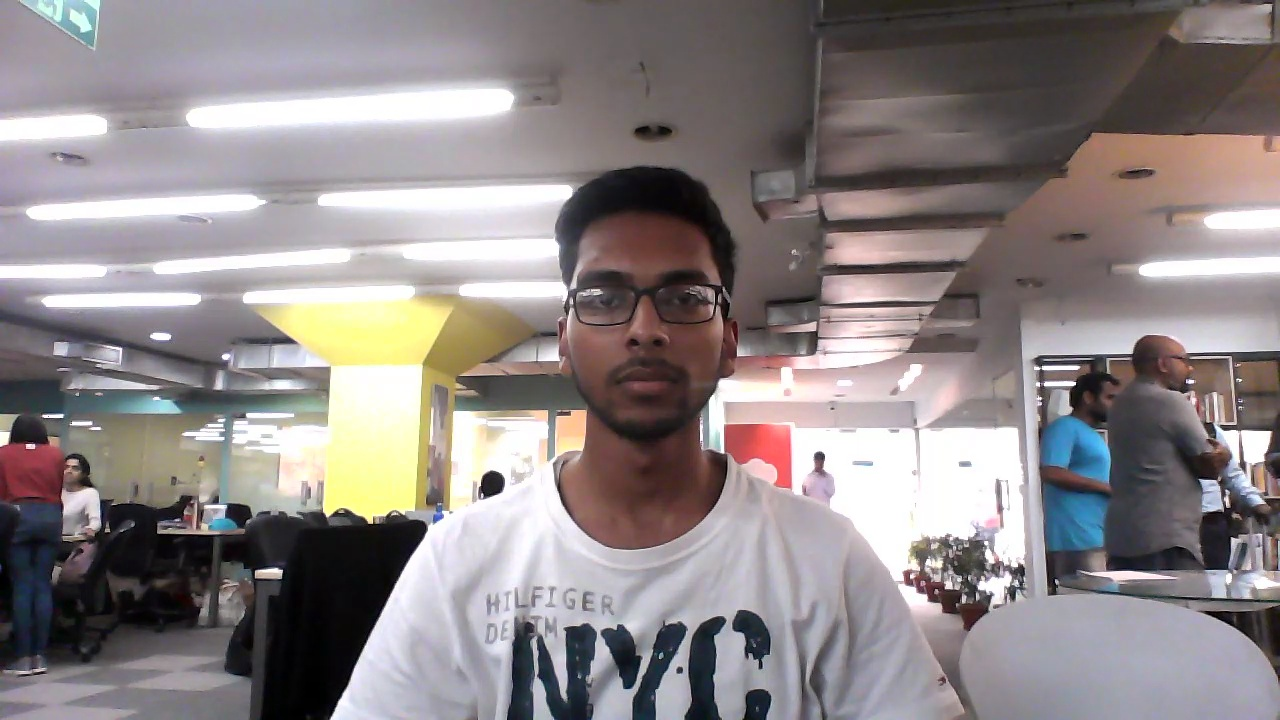open: (561, 166, 743, 449)
